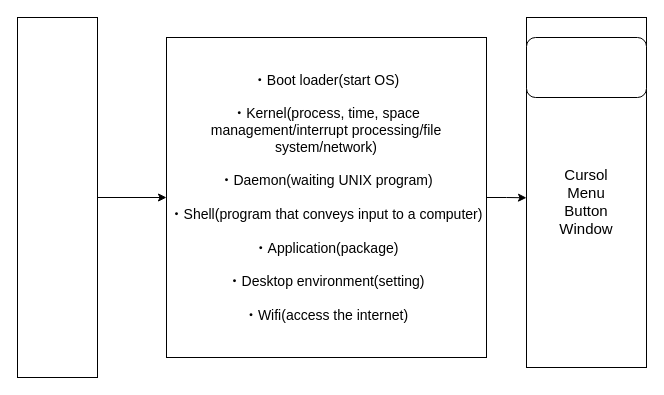
Image size: 664x395. Some labels were removed from this diagram. The shapes that lost their labels are listed below. From the top down, each one's centre as x and y in pixels, then its label:
At (x=586, y=67): "zoom".
At (x=57, y=197): "keyboard mic mouse network cpu gpu speaker ssd hdd memory".
